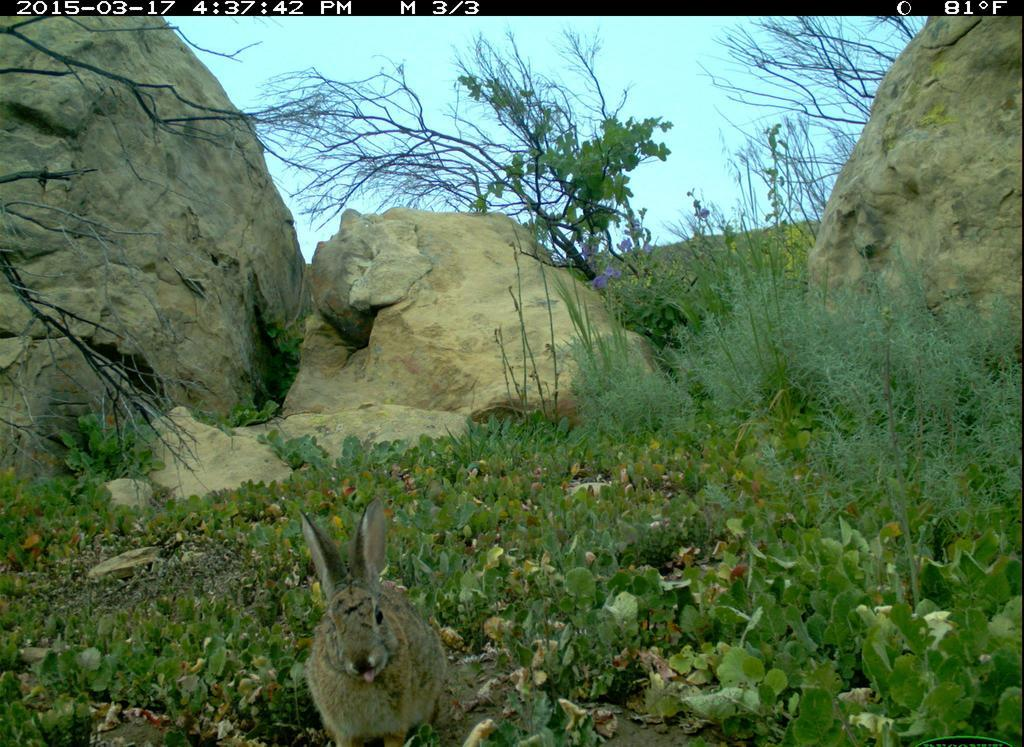rabbit: (271, 496, 470, 742)
